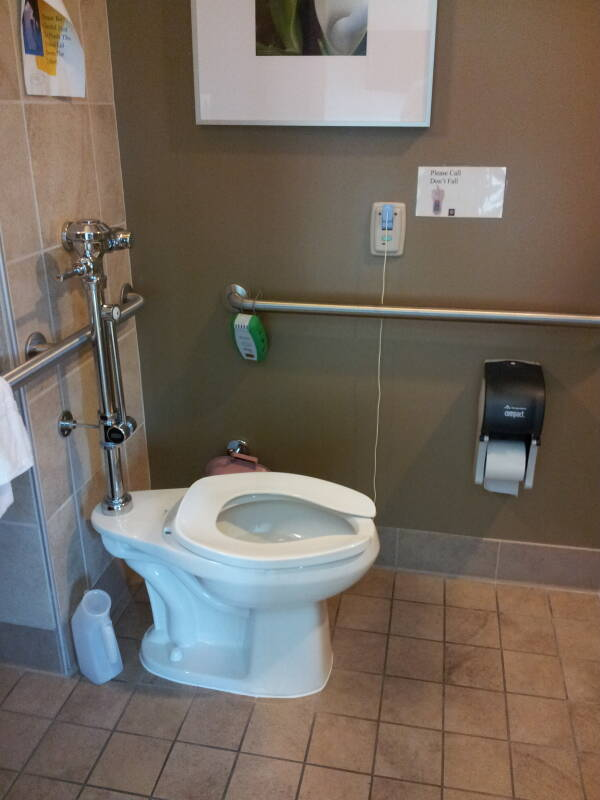dispenser: (474, 356, 550, 499), (371, 198, 403, 273)
restroom_assist_bar: (227, 281, 600, 328), (1, 284, 148, 387)
toilet: (77, 471, 382, 697)
toilet_handle: (52, 262, 88, 280)
